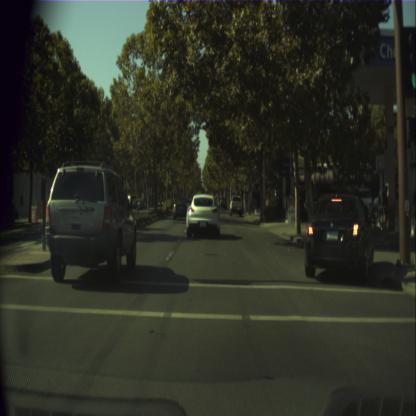Green: (402, 26, 416, 96)
